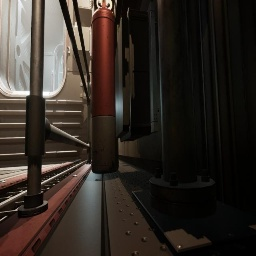NitrogenTank ,: (91, 0, 119, 174)
